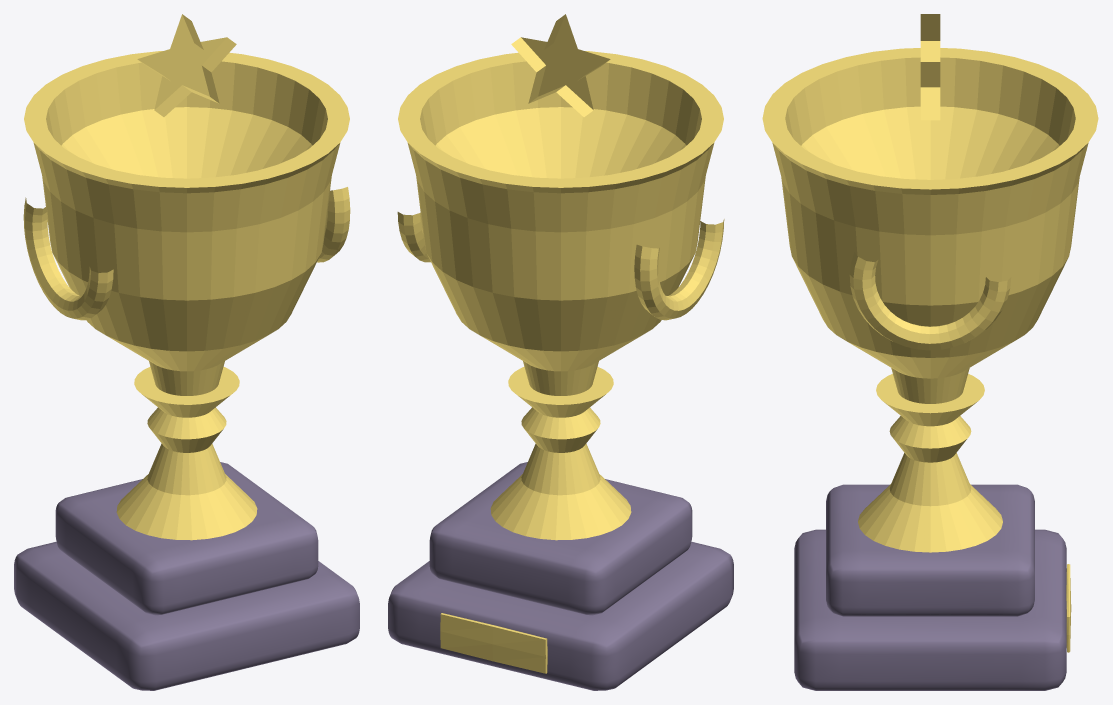
File: Trophy.glb
The picture shows the model from 3 angles, left to right: view 1: azimuth 30°, elevation 25°; view 2: azimuth 150°, elevation 25°; view 3: azimuth 270°, elevation 25°; orthographic projection. The views are drawn at different scales.
Visible parts, largest first — view 1: Cup, Base; view 2: Cup, Base; view 3: Cup, Base.
Part boxes in pixels (bbox=[...]): Cup: bbox=[23, 14, 350, 540]; Base: bbox=[14, 462, 359, 690]; Cup: bbox=[397, 14, 724, 673]; Base: bbox=[388, 462, 733, 690]; Cup: bbox=[762, 14, 1098, 652]; Base: bbox=[794, 484, 1066, 690].
Size of the model in its own units: 3.7 by 7.62 by 3.7.
